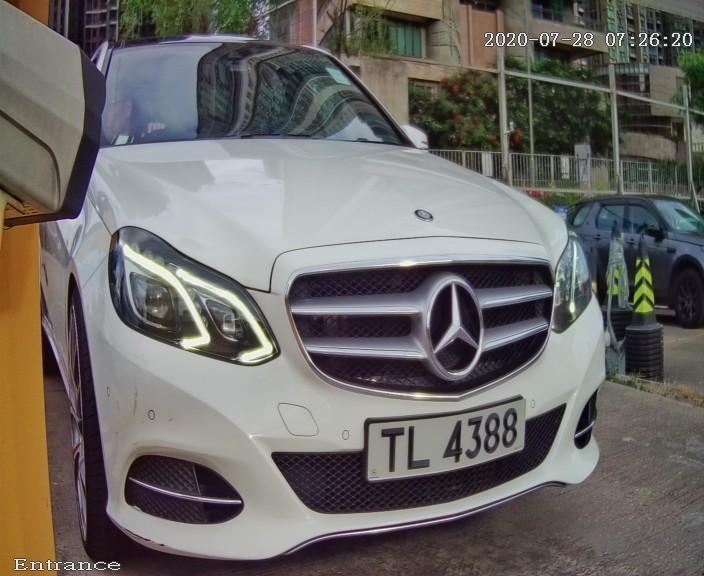privatecar: (45, 1, 639, 576)
